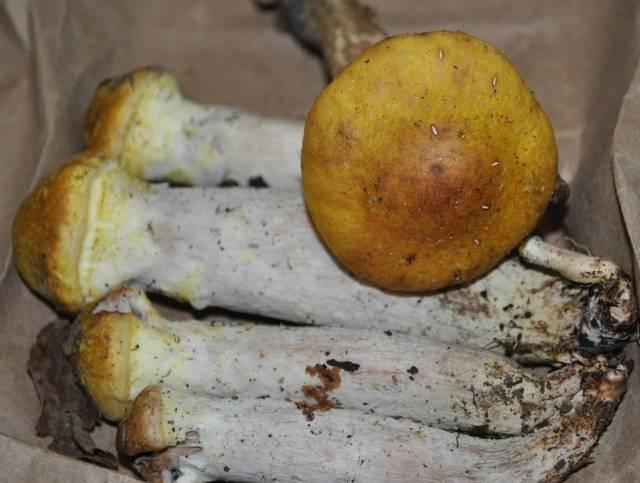Edible Mushroom: (10, 58, 639, 482), (298, 27, 567, 294)
